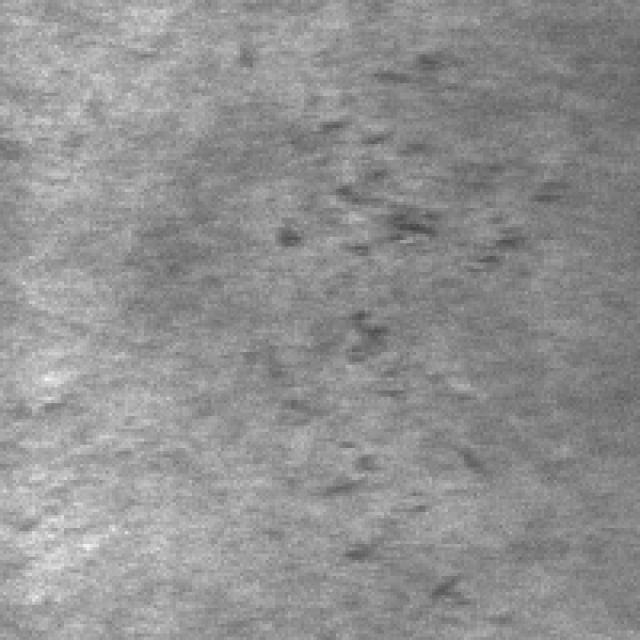rolled-in_scale: (278, 45, 570, 298), (272, 282, 493, 512), (355, 471, 499, 634)
